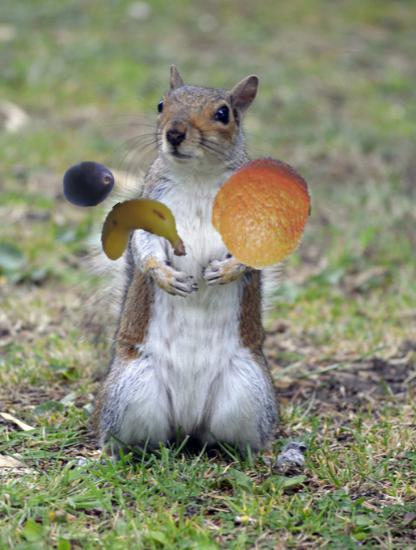Banana: (100, 196, 182, 278)
Mandarine: (205, 156, 319, 270)
Plum: (62, 157, 116, 211)
